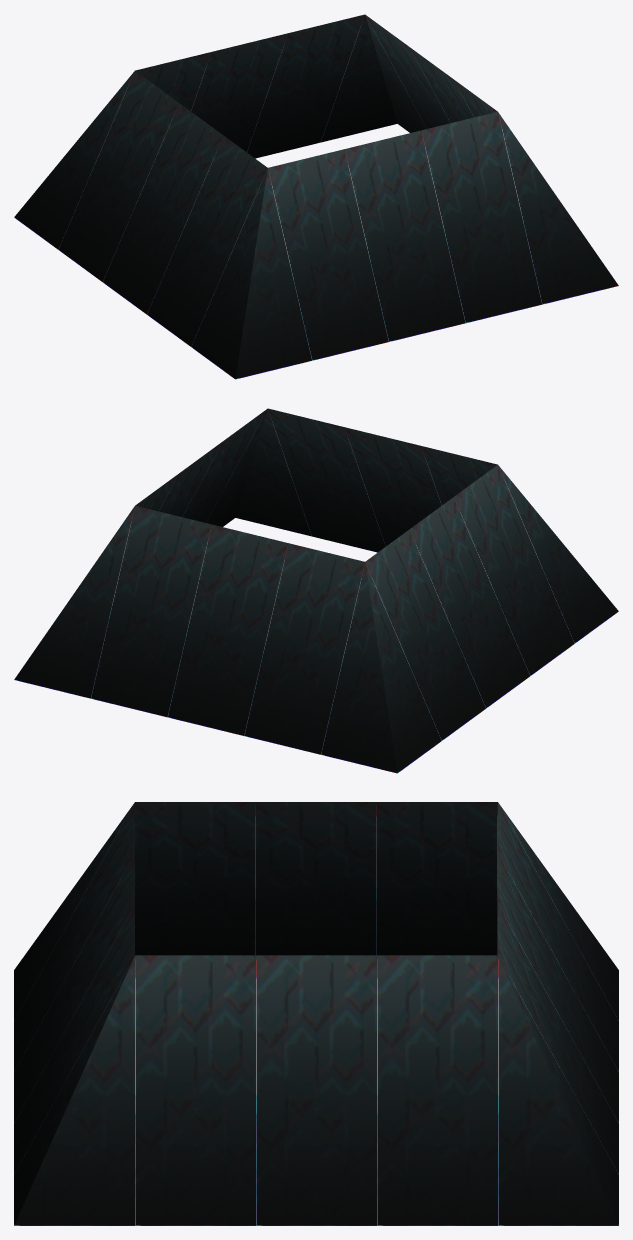
The model's file is arch_winter_wallBottom_isle.FBX.
3 views of the same model, one above another, from view 1: azimuth 30°, elevation 25°; view 2: azimuth 150°, elevation 25°; view 3: azimuth 270°, elevation 25° (orthographic). The views are drawn at different scales.
Visible parts, largest first — view 1: arch_winter_wallBottom_isle; view 2: arch_winter_wallBottom_isle; view 3: arch_winter_wallBottom_isle.
Boxes of the visible parts, <box> form: arch_winter_wallBottom_isle: <box>14,14,618,379</box>; arch_winter_wallBottom_isle: <box>14,408,618,773</box>; arch_winter_wallBottom_isle: <box>14,802,618,1225</box>.
Bounding box in the file's own units: 10 × 4 × 10.
Materials: 1 (1 with a texture image).
